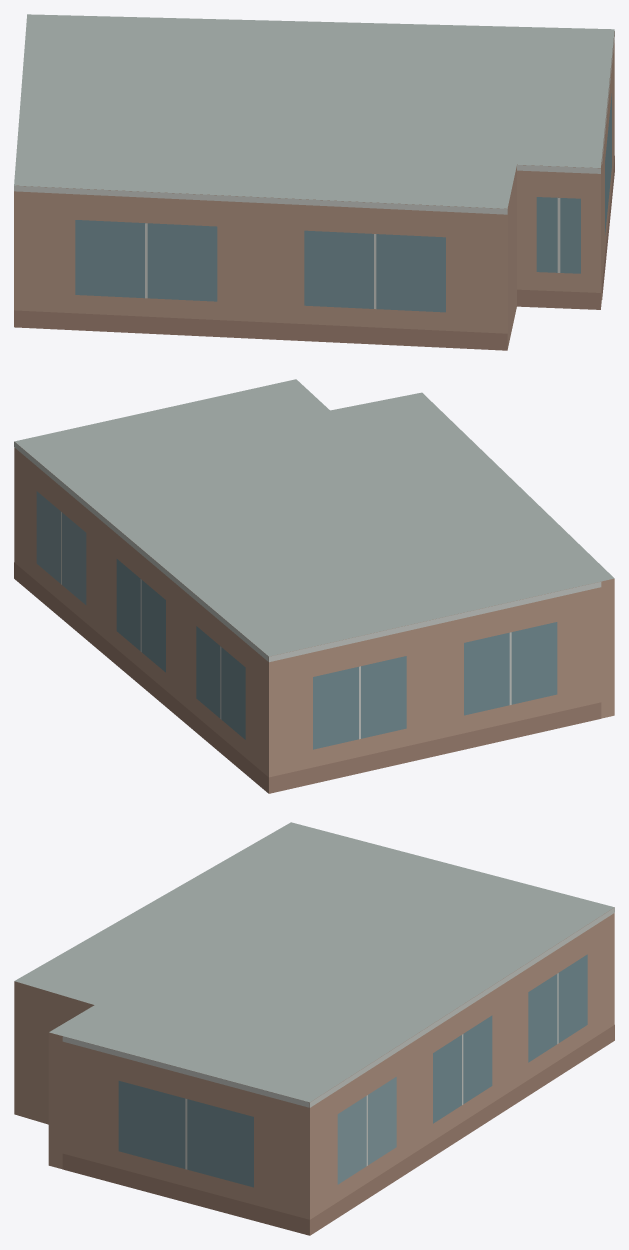
File: survey-upis-32734994.glb
The picture shows the model from 3 angles, top to bottom: view 1: azimuth 30°, elevation 25°; view 2: azimuth 150°, elevation 25°; view 3: azimuth 270°, elevation 25°; orthographic projection. The views are drawn at different scales.
Parts seen in each view (by area): view 1: survey-upis-32734994.tmp; view 2: survey-upis-32734994.tmp; view 3: survey-upis-32734994.tmp.
Boxes of the visible parts, box(x1,y1,x2,y2) form: survey-upis-32734994.tmp: box(14, 14, 614, 350); survey-upis-32734994.tmp: box(14, 379, 614, 793); survey-upis-32734994.tmp: box(14, 822, 614, 1235).
Bounding box in the file's own units: 13.76 × 3.05 × 12.47.
